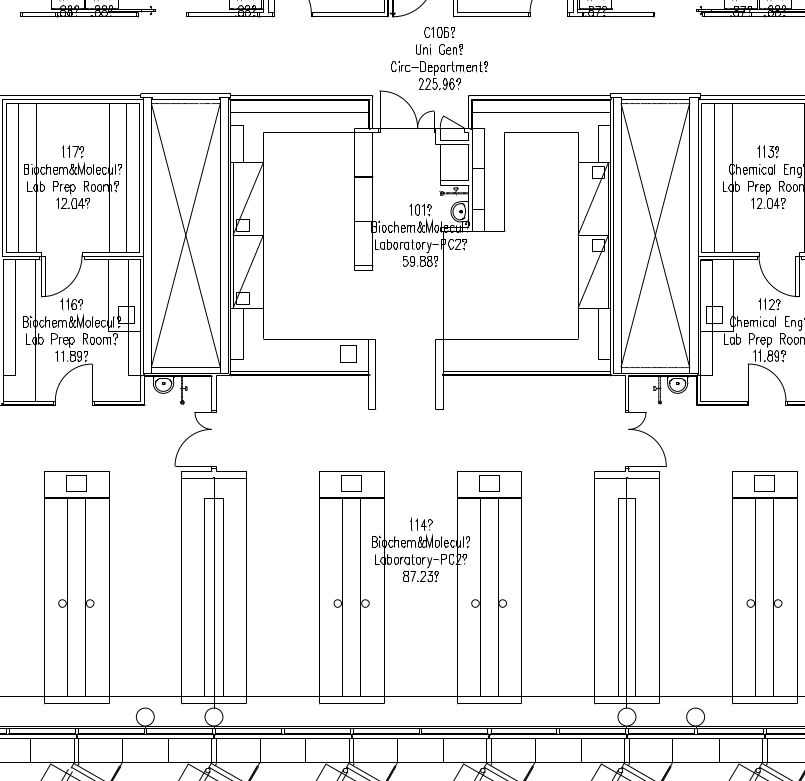door: (623, 409, 677, 470), (162, 408, 216, 469), (375, 84, 436, 134), (52, 361, 96, 411), (39, 255, 83, 305), (758, 256, 802, 306), (744, 358, 788, 408)
